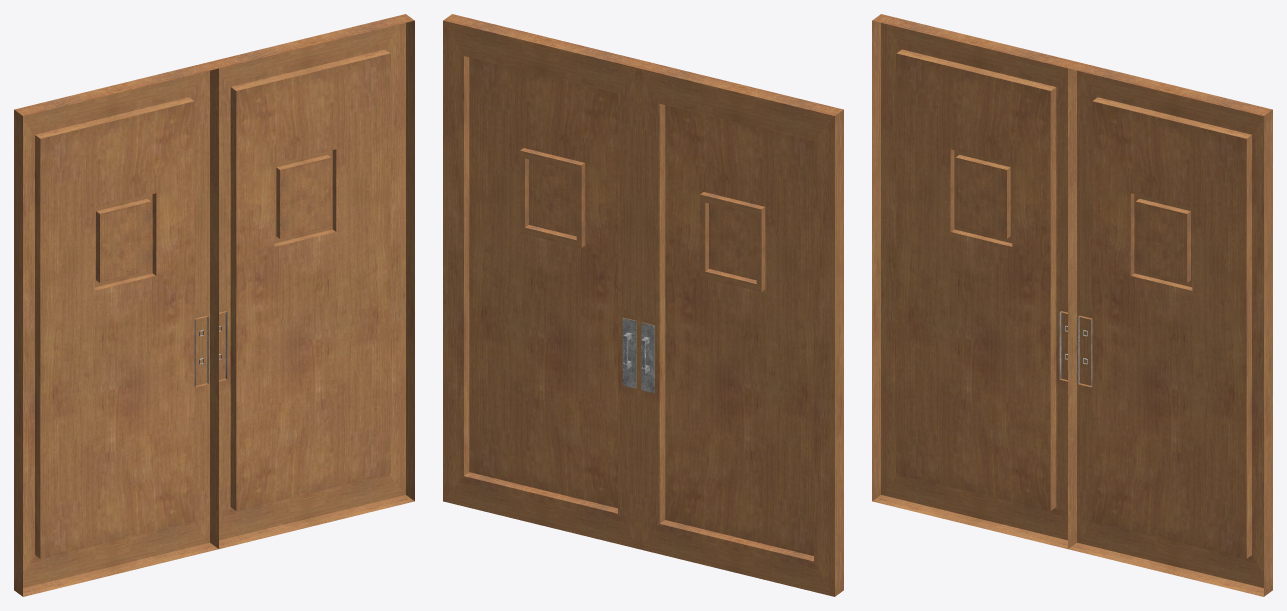
The model's file is Double door.obj.
3 views of the same model, side by side, from view 1: azimuth 30°, elevation 25°; view 2: azimuth 150°, elevation 25°; view 3: azimuth 330°, elevation 25° (orthographic).
Visible parts, largest first — view 1: porta_Plane.006_porta_Plane.006_Material.001, porta_Plane.006_porta_Plane.006_vidro, porta_Plane.006_porta_Plane.006_Material.002; view 2: porta_Plane.006_porta_Plane.006_Material.001, porta_Plane.006_porta_Plane.006_vidro, porta_Plane.006_porta_Plane.006_Material.002; view 3: porta_Plane.006_porta_Plane.006_Material.001, porta_Plane.006_porta_Plane.006_vidro, porta_Plane.006_porta_Plane.006_Material.002.
Boxes of the visible parts, x1=… form: porta_Plane.006_porta_Plane.006_Material.001: x1=14, y1=14, x2=414, y2=596; porta_Plane.006_porta_Plane.006_vidro: x1=100, y1=157, x2=331, y2=282; porta_Plane.006_porta_Plane.006_Material.002: x1=194, y1=312, x2=227, y2=386; porta_Plane.006_porta_Plane.006_Material.001: x1=443, y1=14, x2=843, y2=596; porta_Plane.006_porta_Plane.006_vidro: x1=529, y1=159, x2=756, y2=280; porta_Plane.006_porta_Plane.006_Material.002: x1=622, y1=318, x2=654, y2=393; porta_Plane.006_porta_Plane.006_Material.001: x1=872, y1=14, x2=1272, y2=596; porta_Plane.006_porta_Plane.006_vidro: x1=955, y1=157, x2=1186, y2=282; porta_Plane.006_porta_Plane.006_Material.002: x1=1059, y1=312, x2=1092, y2=386.
Size of the model in its own units: 1.94 by 2.27 by 0.119.
